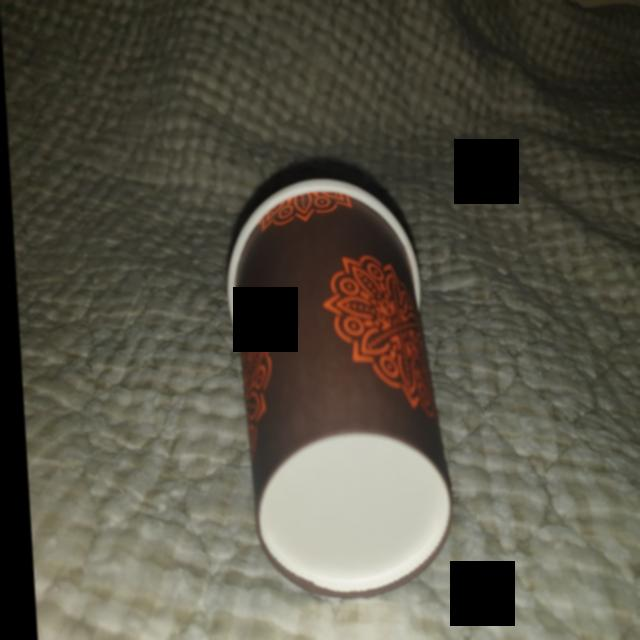cups: (212, 165, 458, 601)
